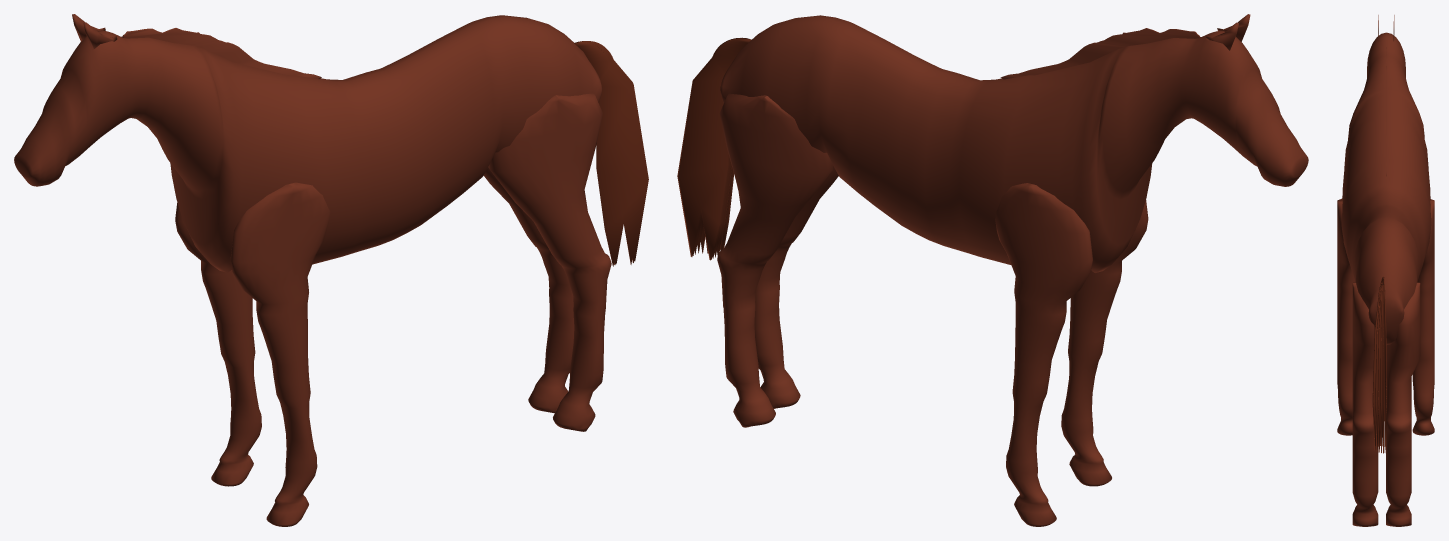
File: model_colorido.dae
3 renders of one model, left to right at view 1: azimuth 30°, elevation 25°; view 2: azimuth 150°, elevation 25°; view 3: azimuth 270°, elevation 25°, orthographic. The views are drawn at different scales.
Parts seen in each view (by area): view 1: SketchUp (×4), group_3, Component_1 (×2), group_2; view 2: SketchUp (×4), group_2, group_3, Component_1; view 3: SketchUp (×3), group_2, group_3, Component_1 (×6).
Boxes of the visible parts, x1=… form: SketchUp (×4): x1=14, y1=15, x2=611, y2=431; group_3: x1=230, y1=182, x2=330, y2=526; Component_1 (×2): x1=574, y1=42, x2=646, y2=266; group_2: x1=175, y1=203, x2=261, y2=486; SketchUp (×4): x1=717, y1=15, x2=1308, y2=427; group_2: x1=995, y1=183, x2=1092, y2=526; group_3: x1=1061, y1=200, x2=1148, y2=486; Component_1: x1=677, y1=38, x2=750, y2=260; SketchUp (×3): x1=1341, y1=32, x2=1431, y2=526; group_2: x1=1412, y1=199, x2=1434, y2=435; group_3: x1=1337, y1=198, x2=1355, y2=435; Component_1 (×6): x1=1372, y1=277, x2=1386, y2=453.
Size of the model in its own units: 102 by 20.29 by 82.1.
